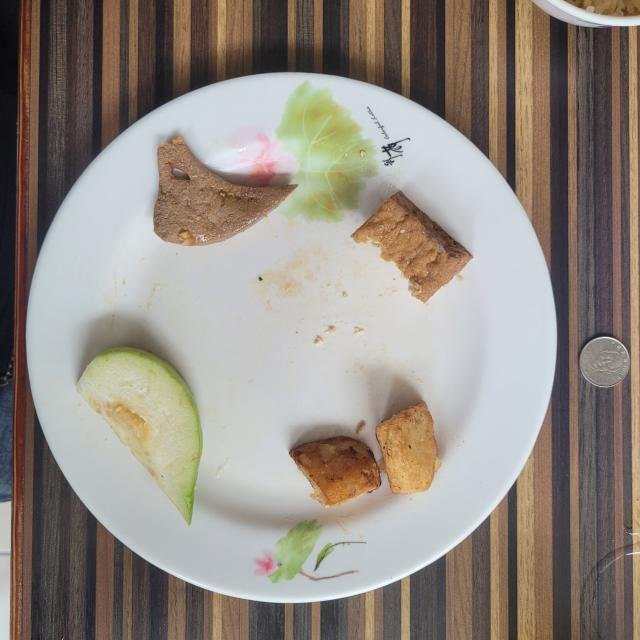coin: (579, 336, 630, 388)
egg tofu: (351, 191, 472, 302)
fried potato: (289, 401, 441, 506)
guava -sliced-: (78, 348, 202, 524)
pig liver: (154, 136, 298, 246)
